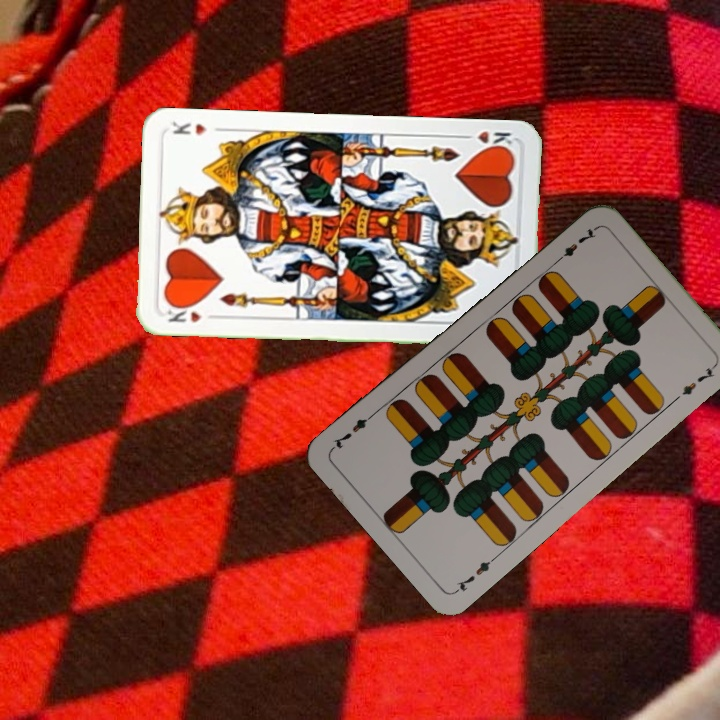E7: (550, 223, 599, 267), (451, 552, 500, 595)
HK: (457, 127, 516, 154), (163, 300, 219, 325)
